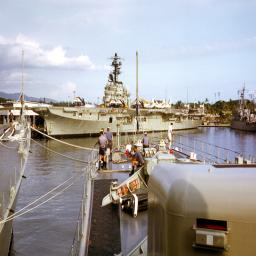Portanaves: (31, 44, 207, 141)
